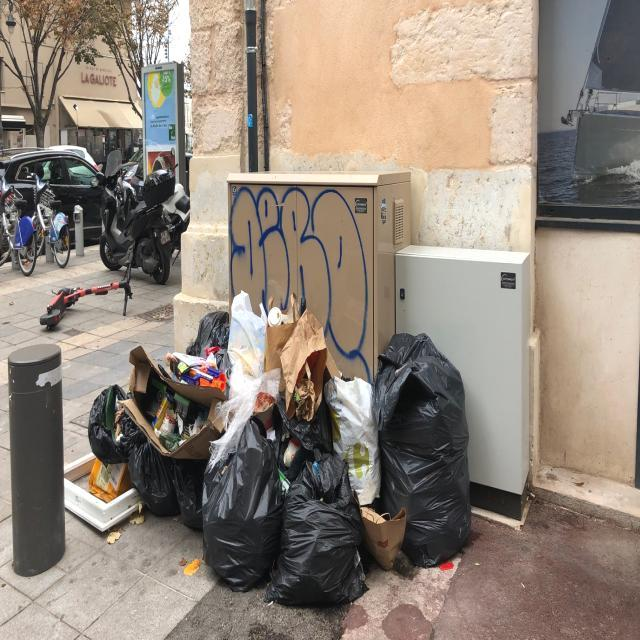high trash: (89, 292, 470, 605)
